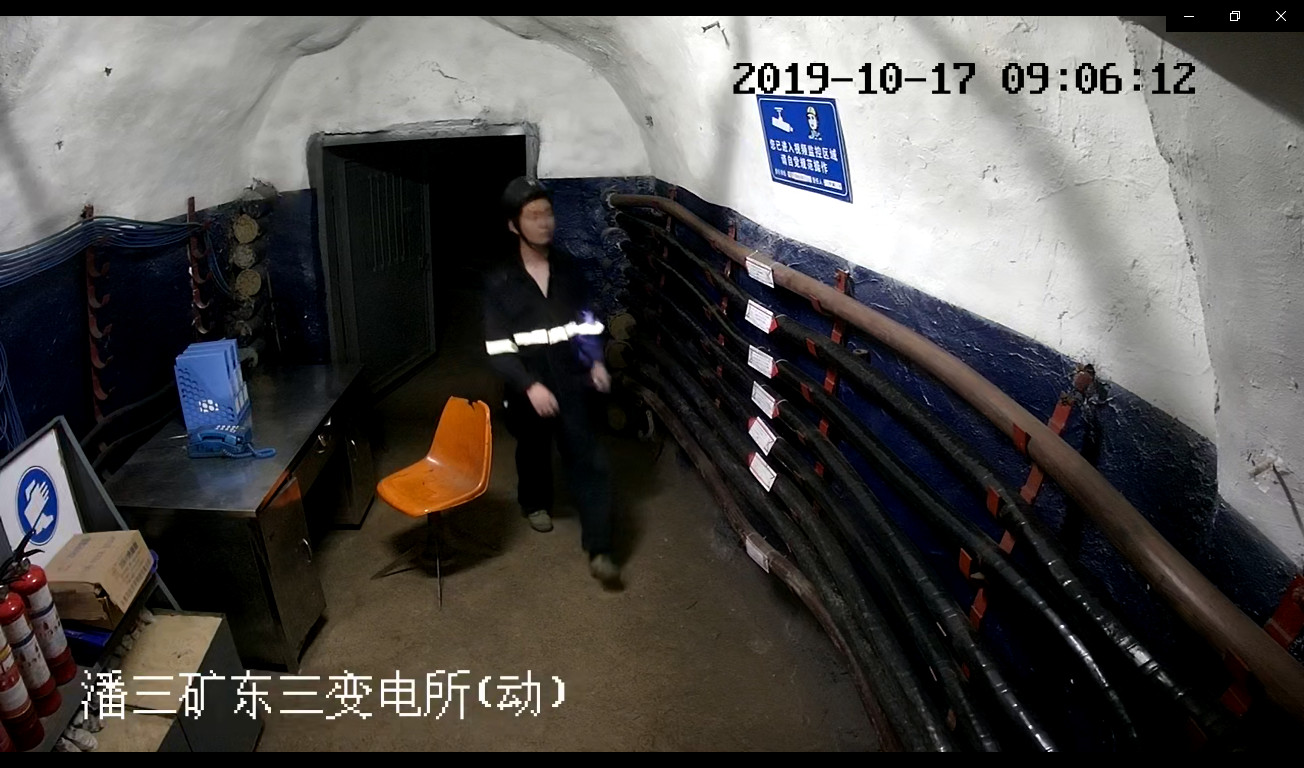helmet: (503, 176, 552, 220)
